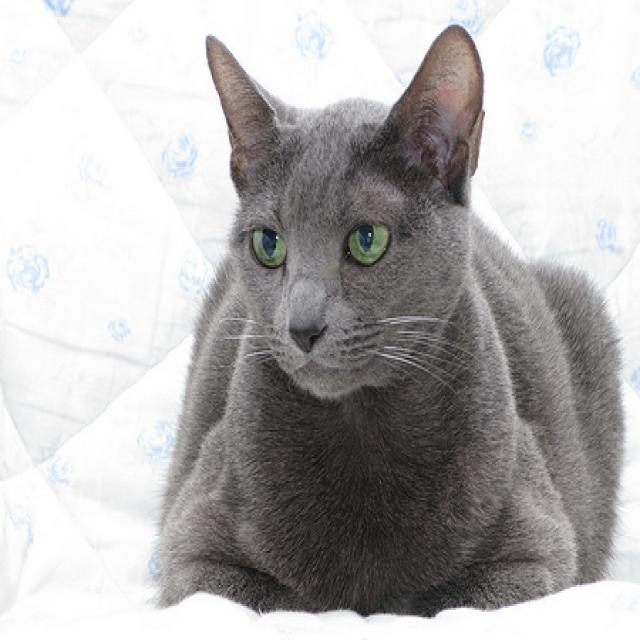Russian Blue: (147, 17, 628, 616)
